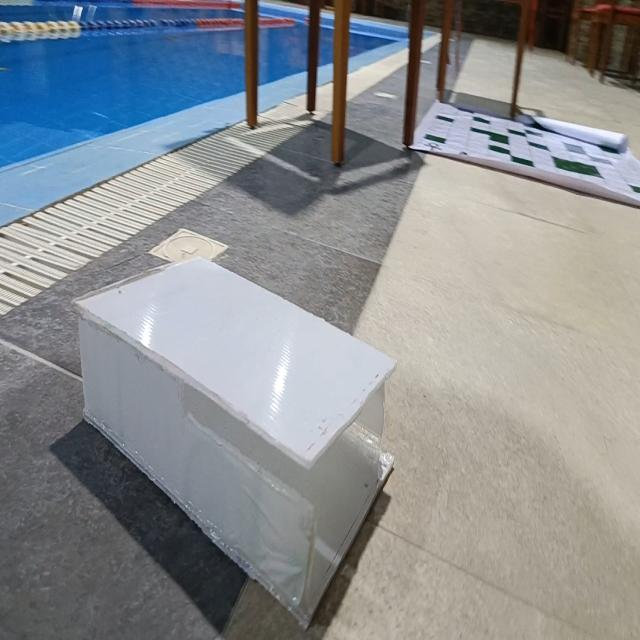Cuboid: (71, 252, 398, 630)
